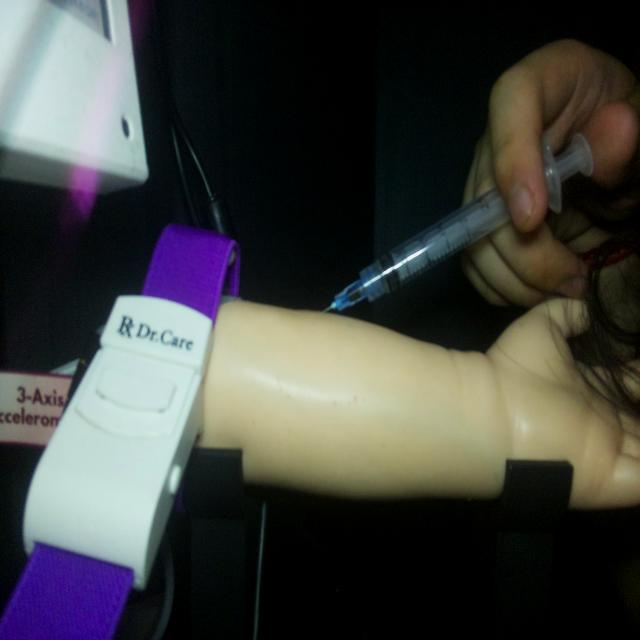24 degrees: (321, 129, 595, 316)
